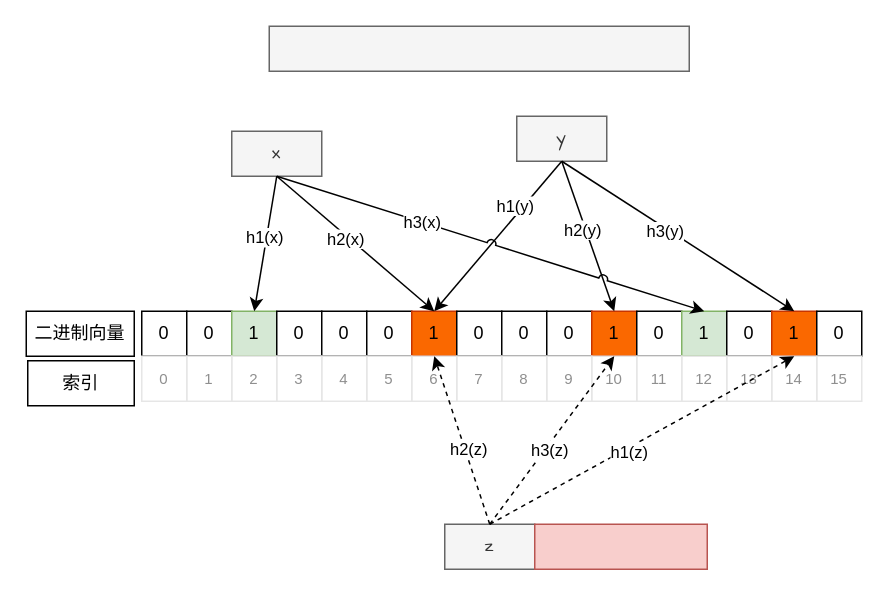
Image size: 888x596. Some labels were removed from this diagram. The shapes that lost their labels are listed below. From the top down, each one's centre as x and y in pixels, then its label:
point (478, 48): m=16,k=3的BloomFilter示意
point (620, 546): 添加z元素后会和y元素冲突, 后续会误判
